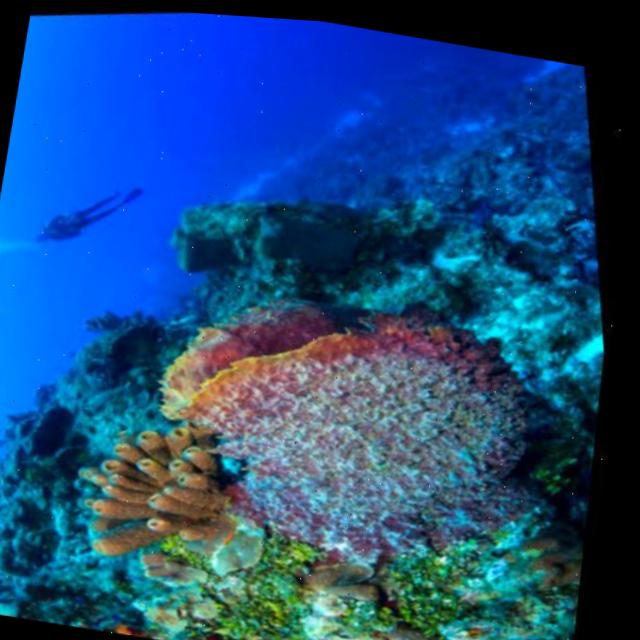Healthy Coral: (0, 191, 631, 640)
